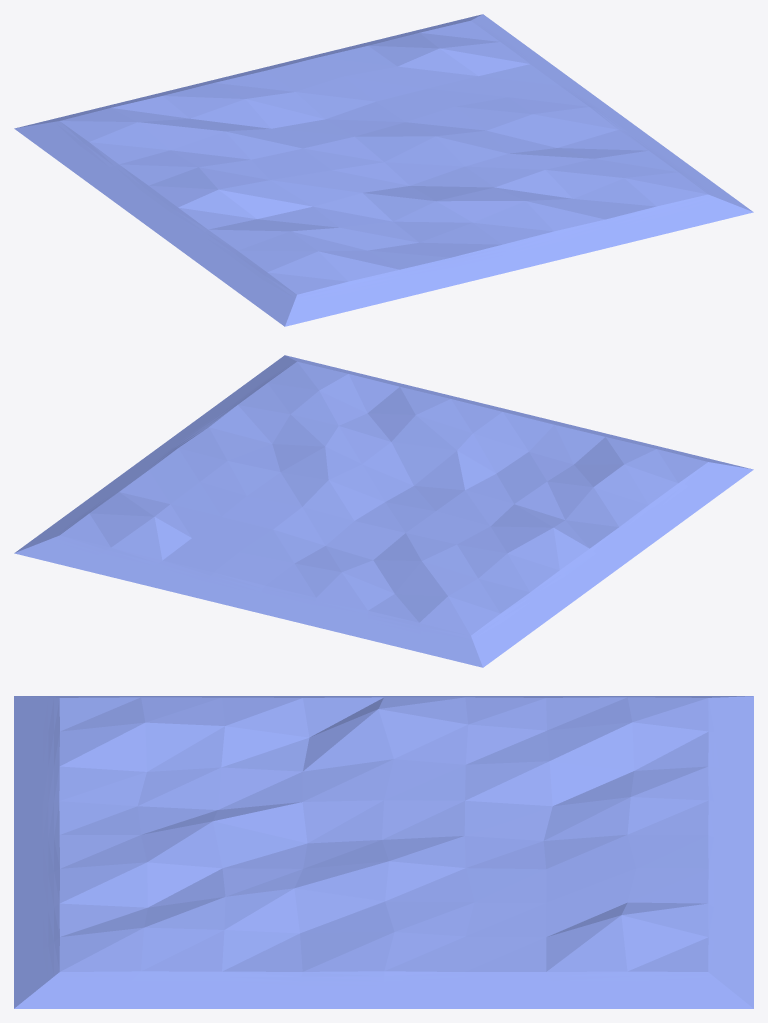
The picture shows the model from 3 angles, top to bottom: view 1: azimuth 30°, elevation 25°; view 2: azimuth 150°, elevation 25°; view 3: azimuth 270°, elevation 25°; orthographic projection. The views are drawn at different scales.
Parts seen in each view (by area): view 1: Cube.022; view 2: Cube.022; view 3: Cube.022.
Boxes of the visible parts, box(x1,y1,x2,y2) form: Cube.022: box(14, 14, 753, 326); Cube.022: box(14, 355, 753, 667); Cube.022: box(14, 696, 753, 1008).
Size of the model in its own units: 97.82 by 97.82 by 4.71.
